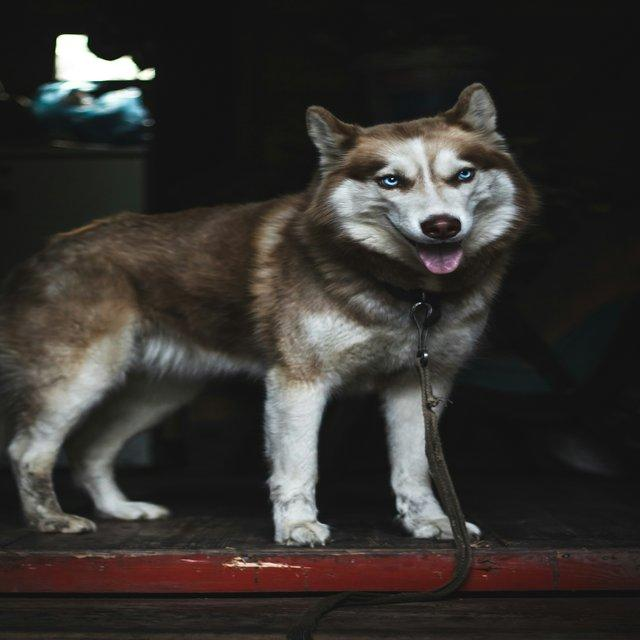husky: (0, 80, 539, 548)
